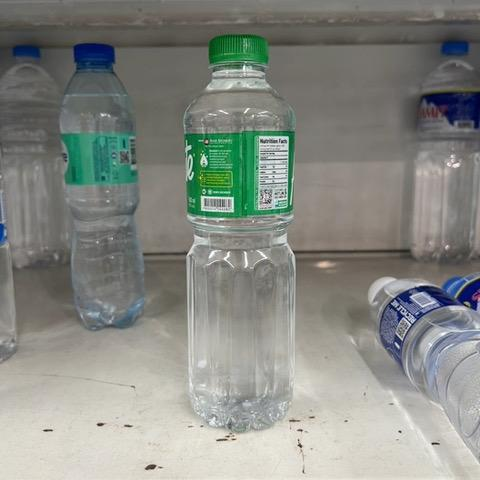Bottled Water: (178, 31, 302, 435), (50, 41, 152, 334), (367, 264, 480, 480), (408, 32, 480, 268)
